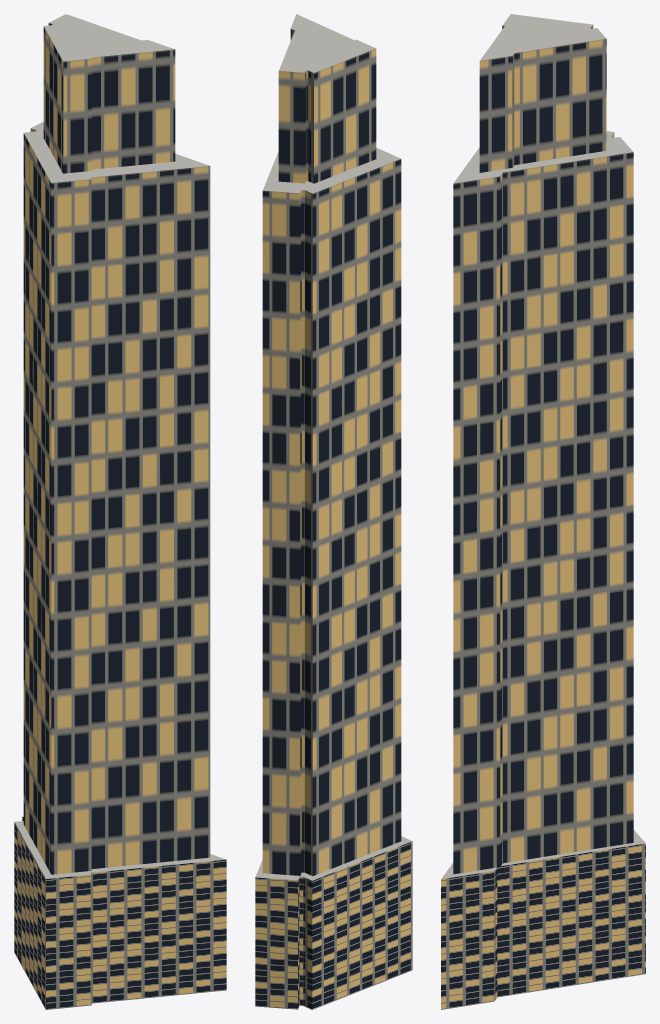
File: lauderdale-tower.glb
The picture shows the model from 3 angles, left to right: view 1: azimuth 30°, elevation 25°; view 2: azimuth 150°, elevation 25°; view 3: azimuth 270°, elevation 25°; orthographic projection.
Parts seen in each view (by area): view 1: lauderdale-tower; view 2: lauderdale-tower; view 3: lauderdale-tower.
Part boxes in pixels (x1=…): lauderdale-tower: x1=14, y1=14, x2=226, y2=1009; lauderdale-tower: x1=255, y1=14, x2=412, y2=1009; lauderdale-tower: x1=441, y1=14, x2=645, y2=1009.
Bounding box in the file's own units: 0.2887 × 1.66 × 0.3298.
2 materials, 1 textured.
